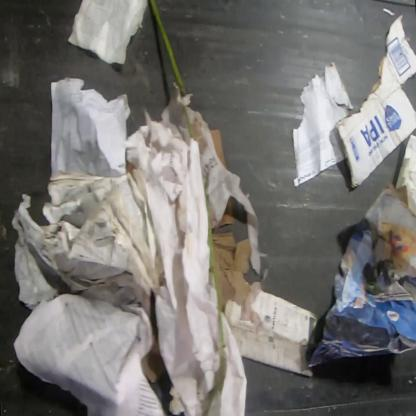cardboard: (336, 13, 415, 191), (360, 183, 415, 298), (208, 232, 253, 310), (208, 128, 225, 170), (219, 195, 238, 228)
